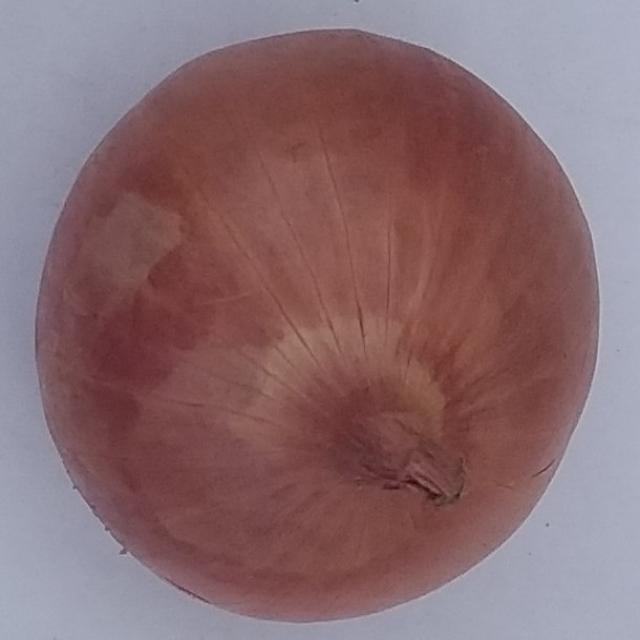onion: (35, 29, 601, 626)
